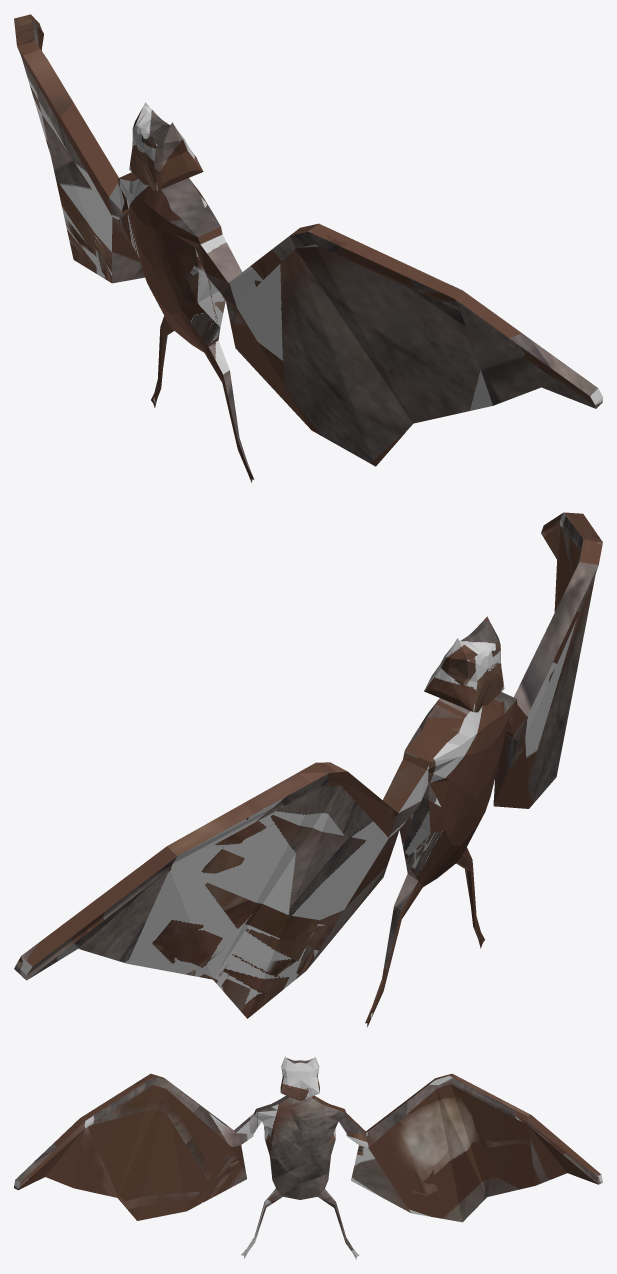
Rendered from Enemigo124.obj.
3 renders of one model, top to bottom at view 1: azimuth 30°, elevation 25°; view 2: azimuth 150°, elevation 25°; view 3: azimuth 270°, elevation 25°, orthographic. The views are drawn at different scales.
Parts seen in each view (by area): view 1: Plano; view 2: Plano; view 3: Plano.
Part boxes in pixels (bbox=[...]): Plano: bbox=[14, 14, 602, 482]; Plano: bbox=[14, 512, 602, 1027]; Plano: bbox=[14, 1056, 602, 1259].
Bounding box in the file's own units: 0.4773 × 0.7536 × 2.11.
Materials: 1 (1 with a texture image).
